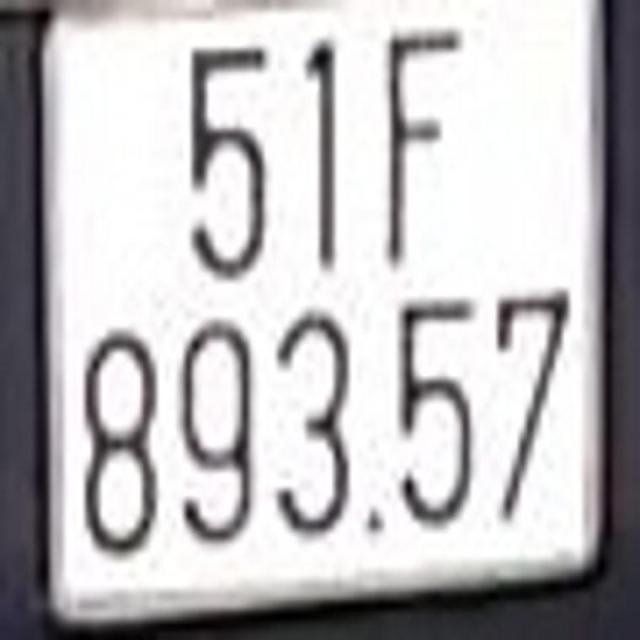1: (300, 31, 344, 282)
3: (272, 306, 352, 532)
5: (392, 292, 477, 530), (185, 36, 266, 282)
7: (490, 287, 572, 528)
8: (78, 324, 160, 558)
9: (172, 320, 255, 548)
F: (380, 18, 464, 277)
